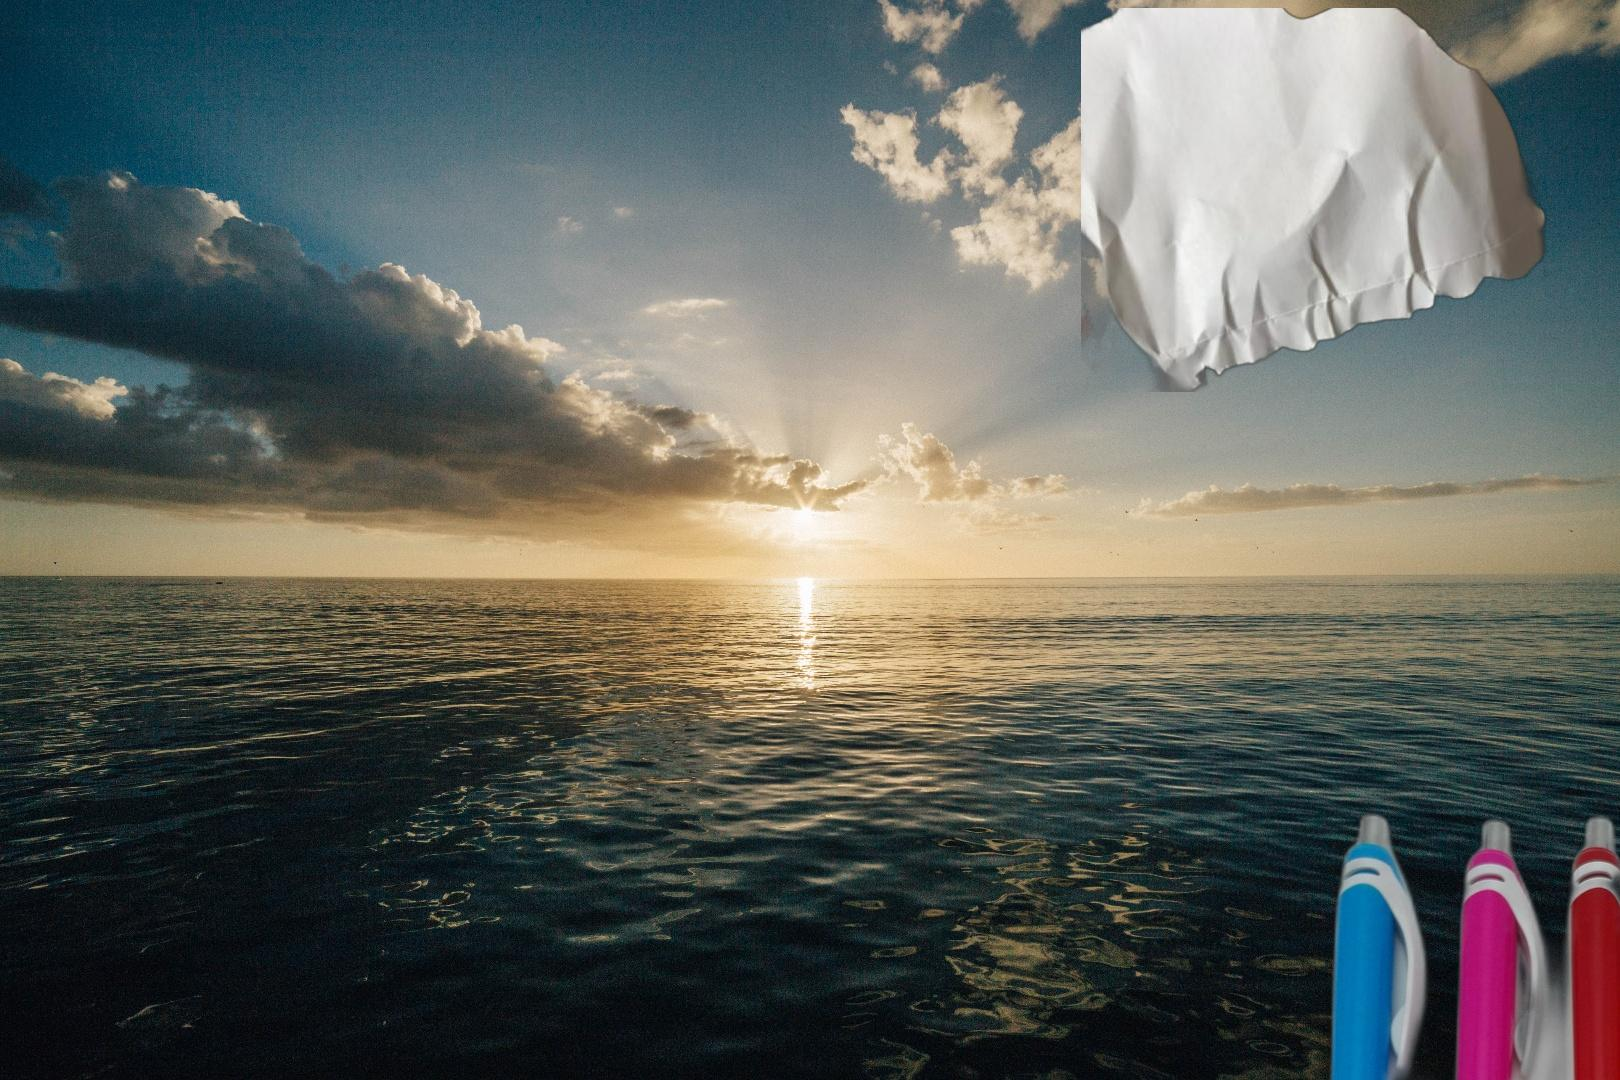paper: (1081, 8, 1550, 392)
penholder: (1297, 793, 1620, 1080)
